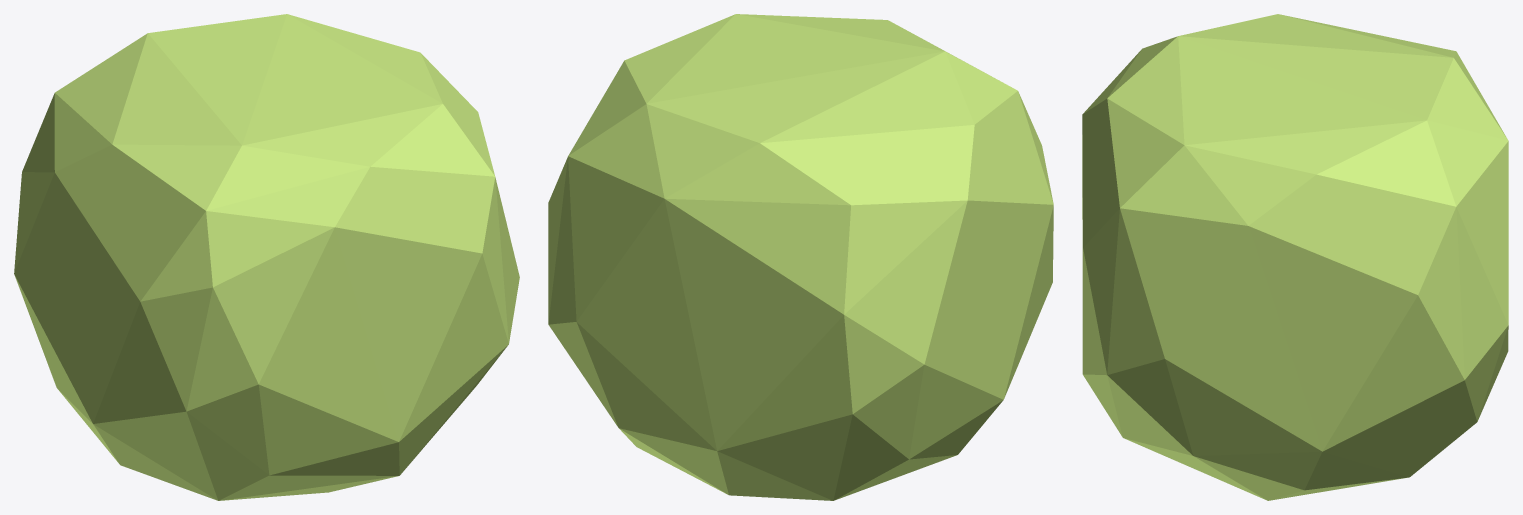
The model's file is Bush_a_m_05.fbx.
3 views of the same model, side by side, from view 1: azimuth 30°, elevation 25°; view 2: azimuth 150°, elevation 25°; view 3: azimuth 270°, elevation 25° (orthographic).
Visible parts, largest first — view 1: Bush_a_m_05; view 2: Bush_a_m_05; view 3: Bush_a_m_05.
Part boxes in pixels (left/top/right/bottom): Bush_a_m_05: left=14, top=14, right=519, bottom=500; Bush_a_m_05: left=548, top=14, right=1053, bottom=500; Bush_a_m_05: left=1082, top=14, right=1508, bottom=500.
Bounding box in the file's own units: 119 × 119 × 117.
